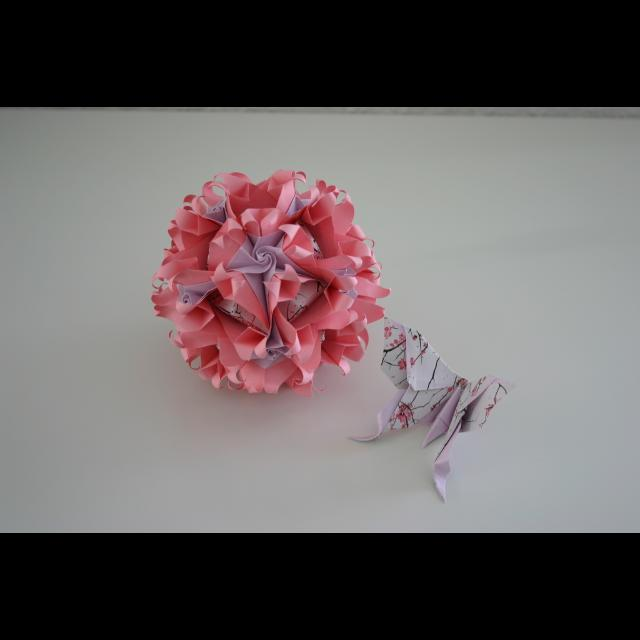Flower: (151, 175, 397, 421)
